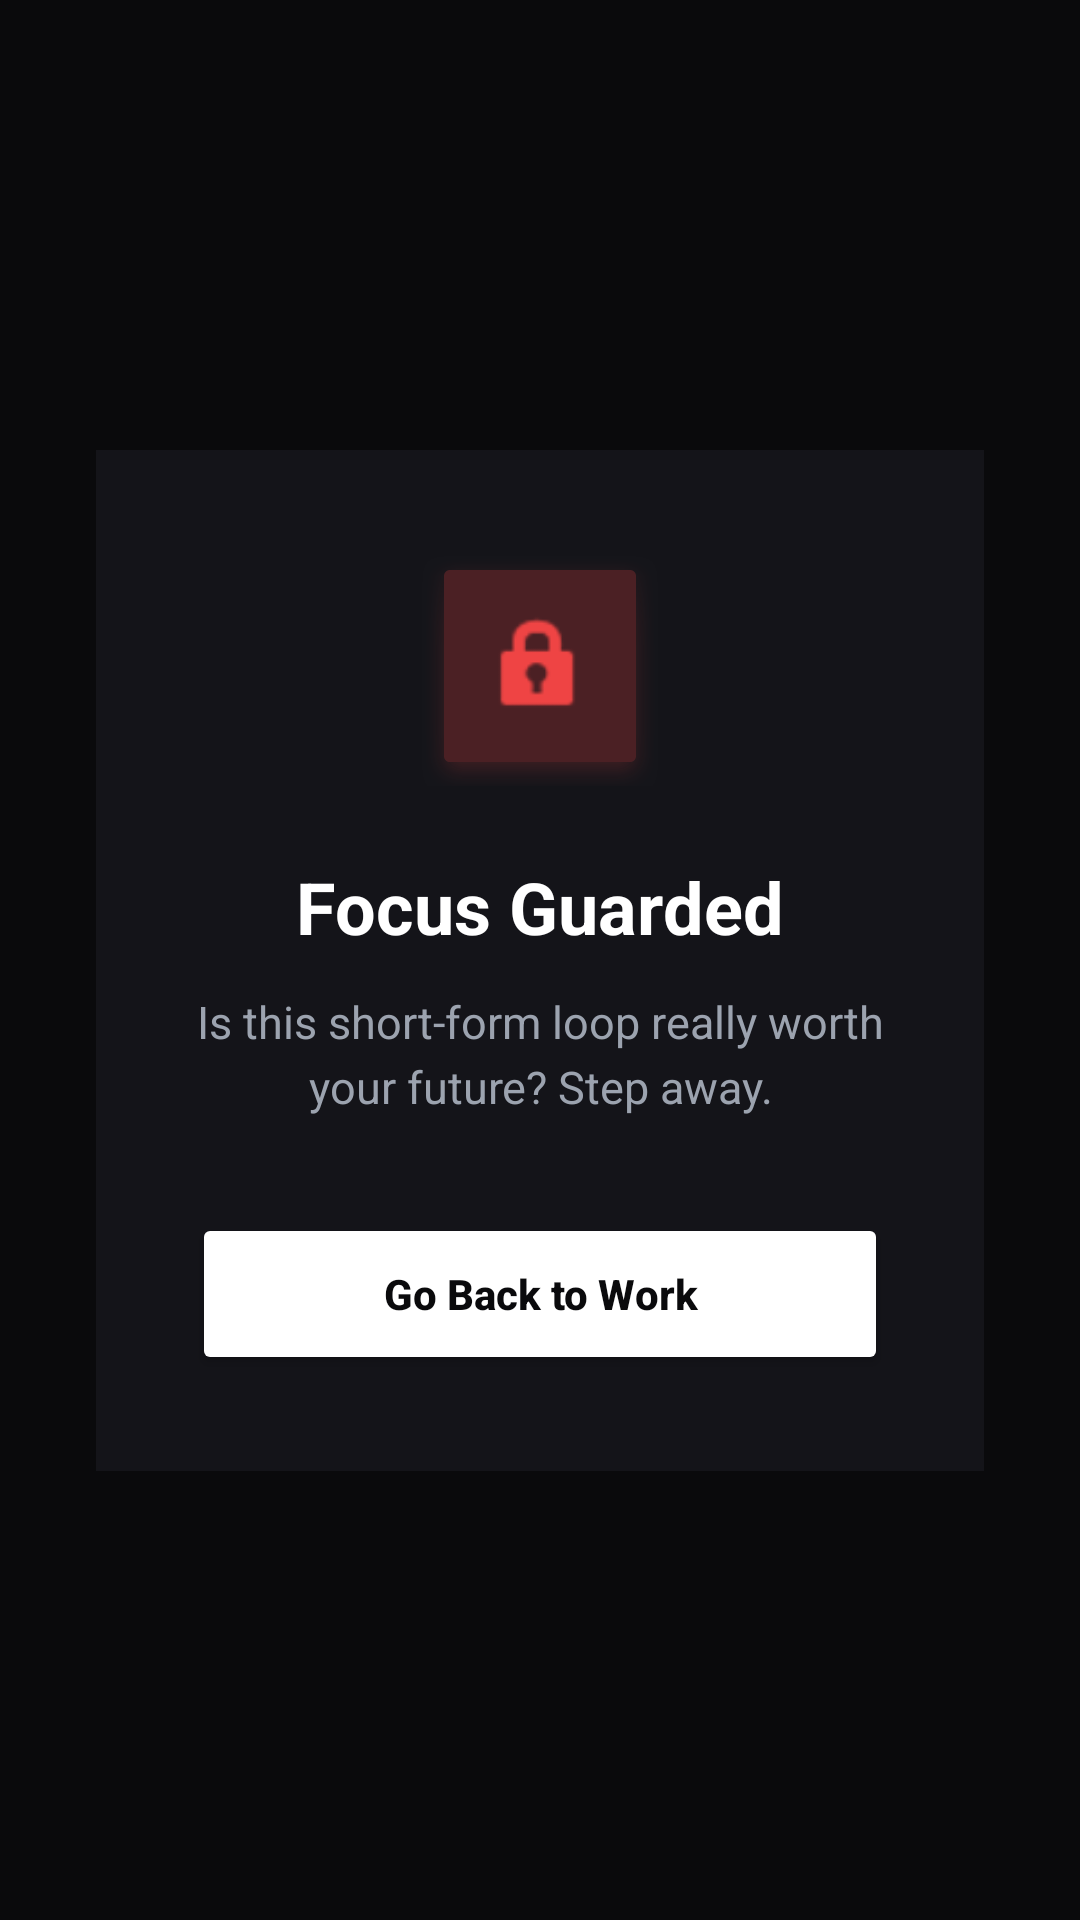

Named icons in this screenshot (1080px×1920px) and their bounding boxes, BBox(x1, y1, x2, y2):
Lock: BBox(500, 619, 575, 706)
